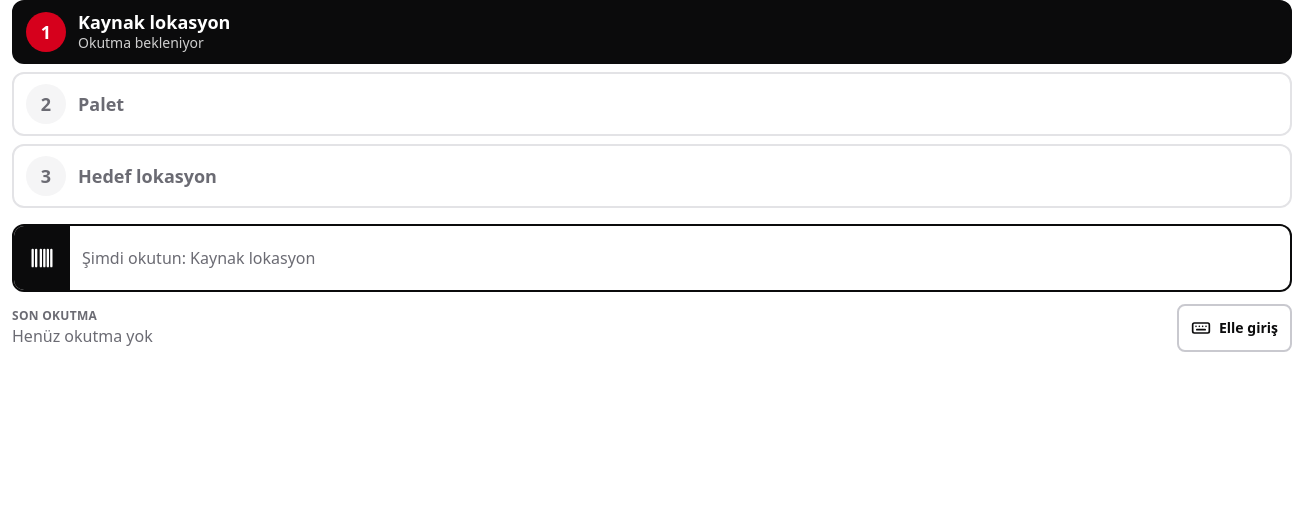
Test: <ScanFlow> › refuses and logs an unrecognised scan
Type "???" into the field with test id "scan-input" at [680, 258], box 70,226 -> 1290,290
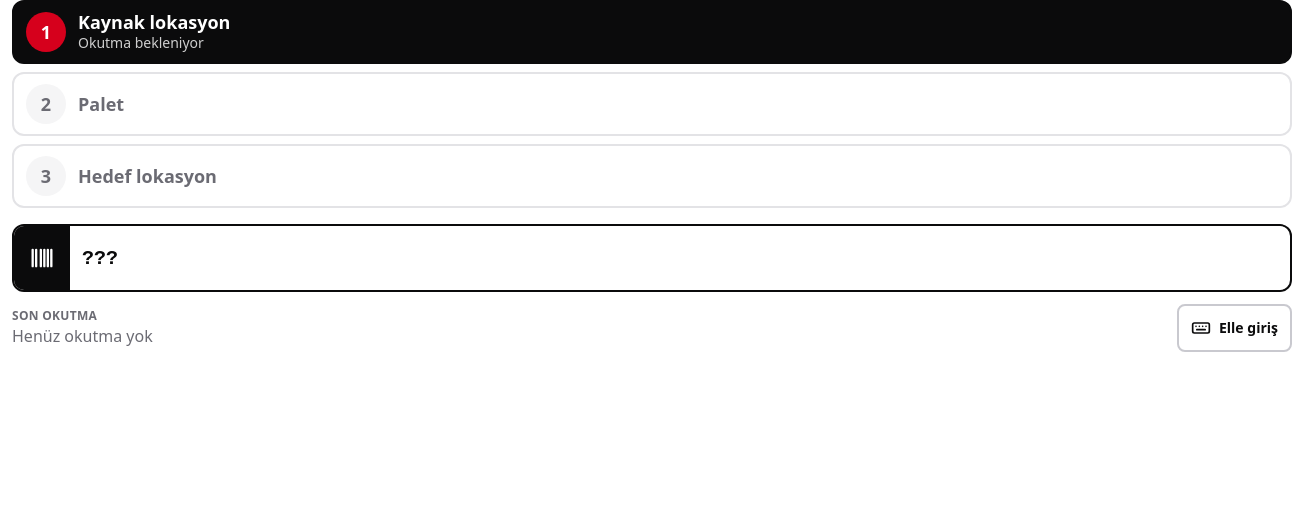
Press Enter in the field with test id "scan-input", box 70,226 -> 1290,290
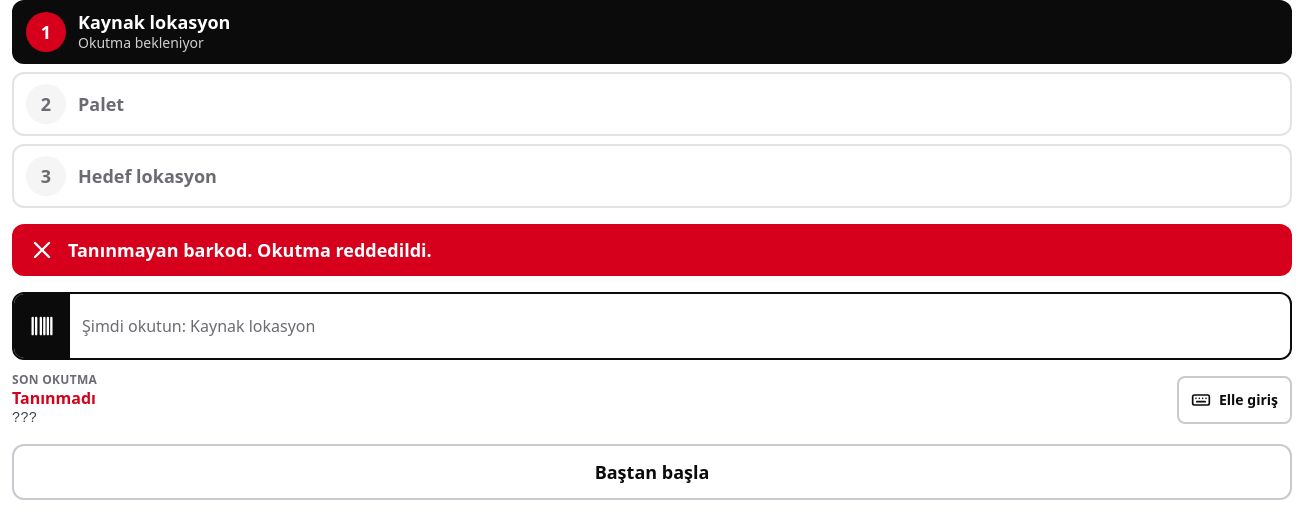
Expected: the message with test id "refusal-banner" reads "Tanınmayan barkod. Okutma reddedildi.", 68,238 -> 432,262
